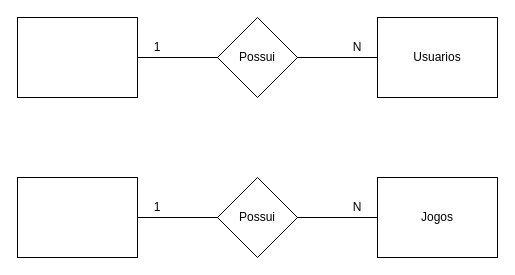
Some shapes in this 515 by 275 pixel diagram are drawn without their labels. The shapes that lost their labels are listed below. From the top down, each one's centre as x and y in pixels, then its label:
At point (77, 57): "TiposUsuarios".
At point (77, 217): "Estudios".
